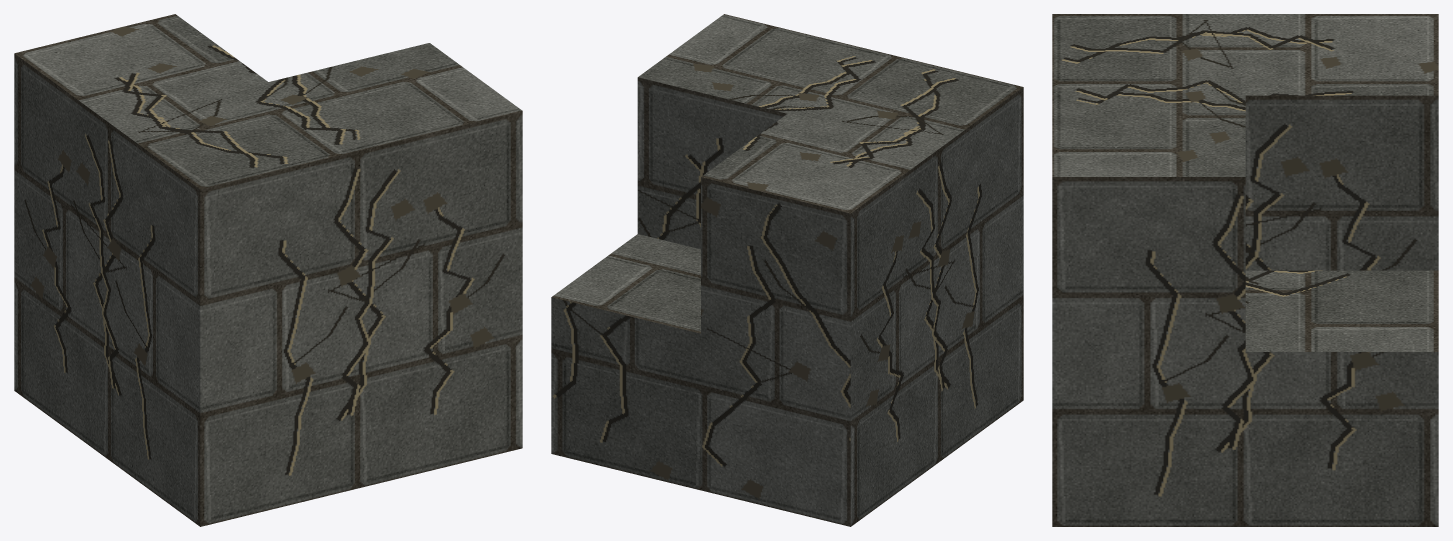
The model's file is mount_z2.glb.
3 views of the same model, side by side, from view 1: azimuth 30°, elevation 25°; view 2: azimuth 150°, elevation 25°; view 3: azimuth 270°, elevation 25° (orthographic). The views are drawn at different scales.
Parts seen in each view (by area): view 1: mount_z2; view 2: mount_z2; view 3: mount_z2.
Part boxes in pixels (<box>): mount_z2: <box>14,14,522,526</box>; mount_z2: <box>551,14,1023,526</box>; mount_z2: <box>1052,14,1438,526</box>.
Bounding box in the file's own units: 1 × 1 × 1.
1 material, 1 textured.
